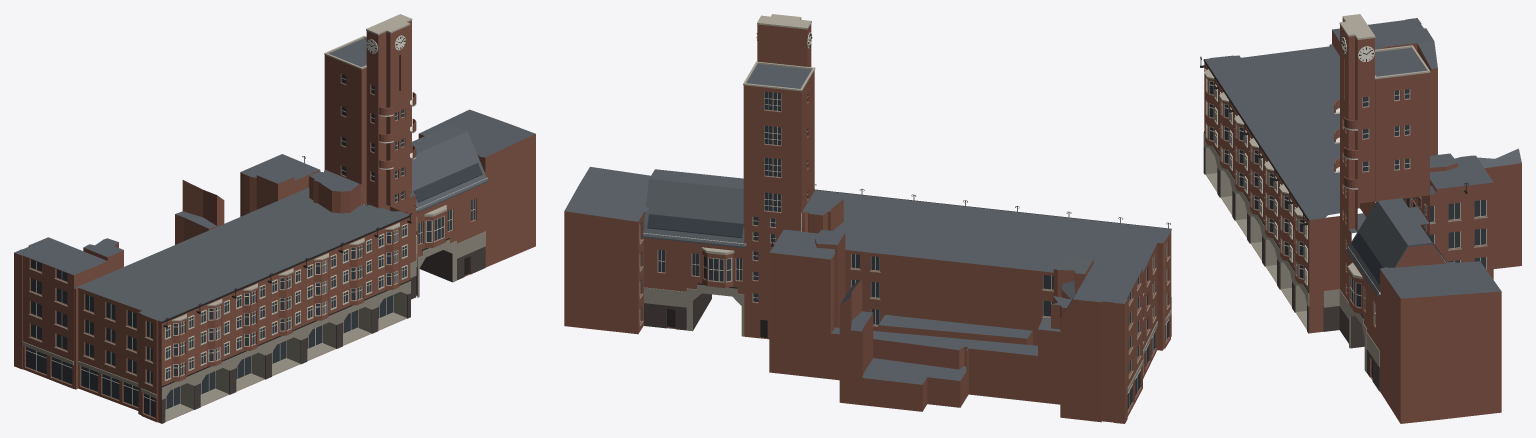
File: mercatorplein-noordtoren.glb
3 views of the same model, side by side, from view 1: azimuth 30°, elevation 25°; view 2: azimuth 150°, elevation 25°; view 3: azimuth 270°, elevation 25° (orthographic). The views are drawn at different scales.
Parts seen in each view (by area): view 1: mercatorplein-noordtoren; view 2: mercatorplein-noordtoren; view 3: mercatorplein-noordtoren.
Boxes of the visible parts, x1,y1,x2,y2 form: mercatorplein-noordtoren: (14,14,535,423); mercatorplein-noordtoren: (564,14,1171,423); mercatorplein-noordtoren: (1200,14,1521,423).
Bounding box in the file's own units: 73.19 × 37.6 × 35.64.
